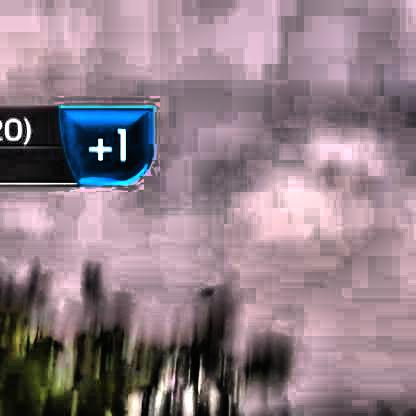golfball: (201, 283, 212, 294)
